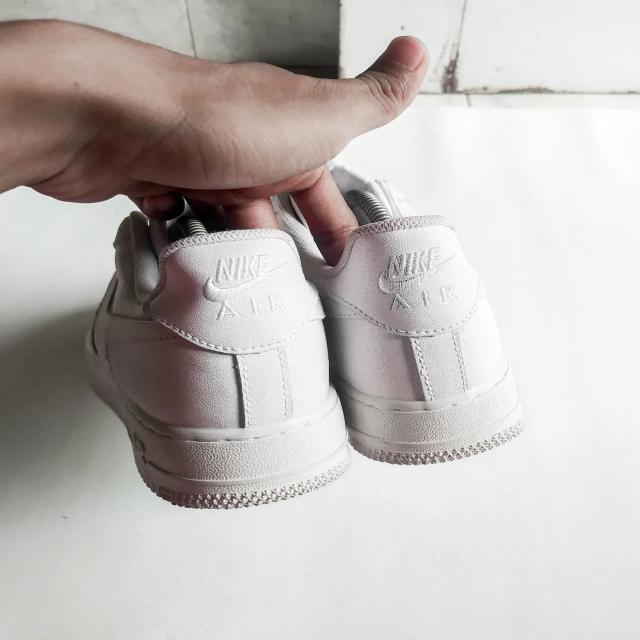nike fake air force: (85, 196, 358, 514), (294, 169, 526, 472)
